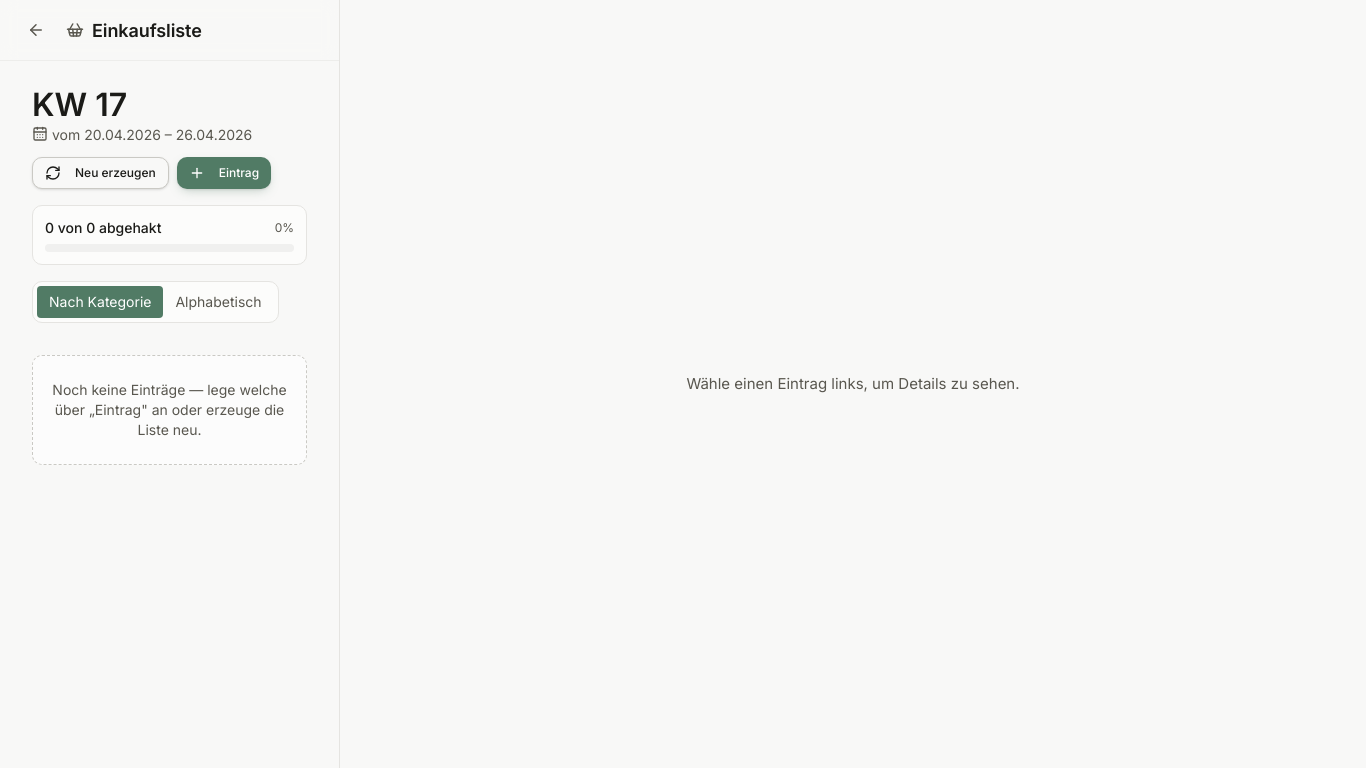
<ShoppingListPage /> › opens the AddItemDialog when the "Eintrag" button is clicked
The width and height of the screenshot is (1366, 768).
Click the button "Eintrag". click: (224, 173)
box: [177,157,271,189]
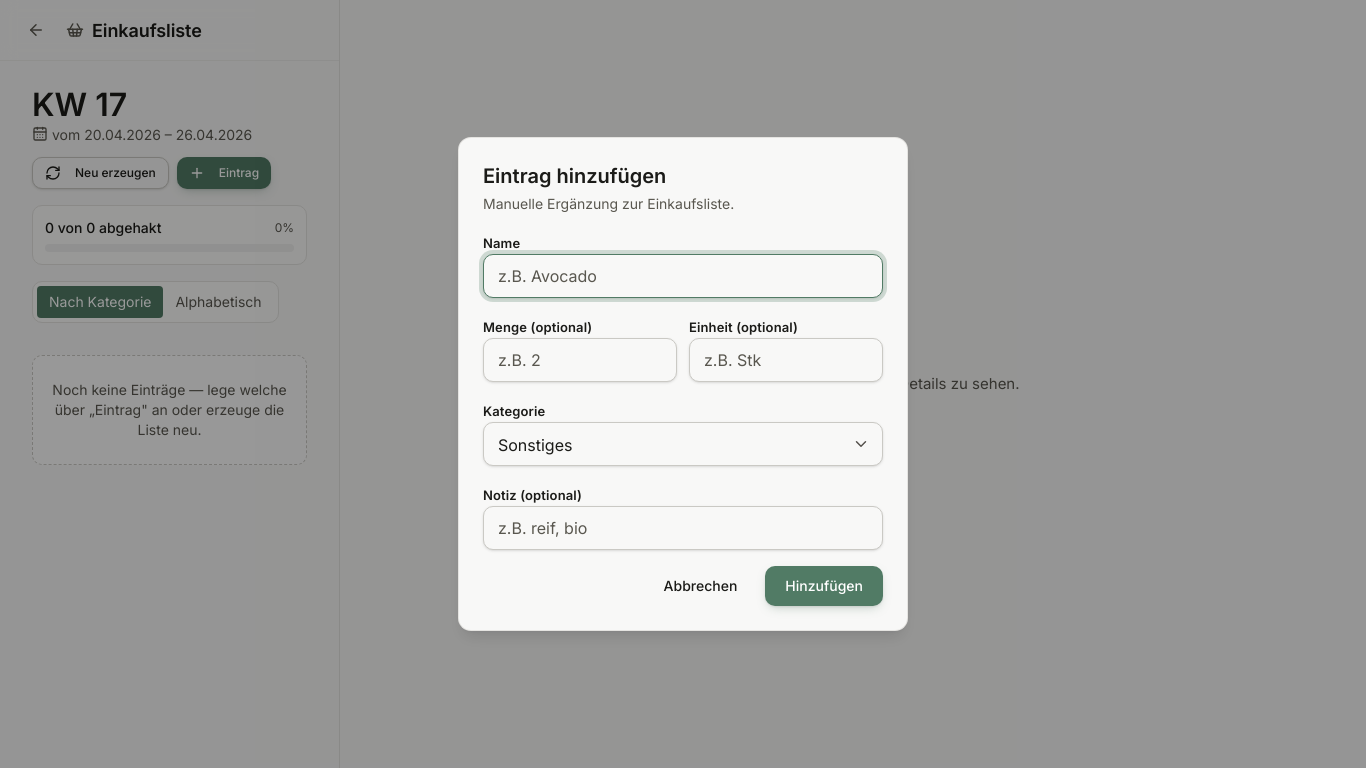
Check: the field labelled "Name" is shown, box [483,254,883,298]
